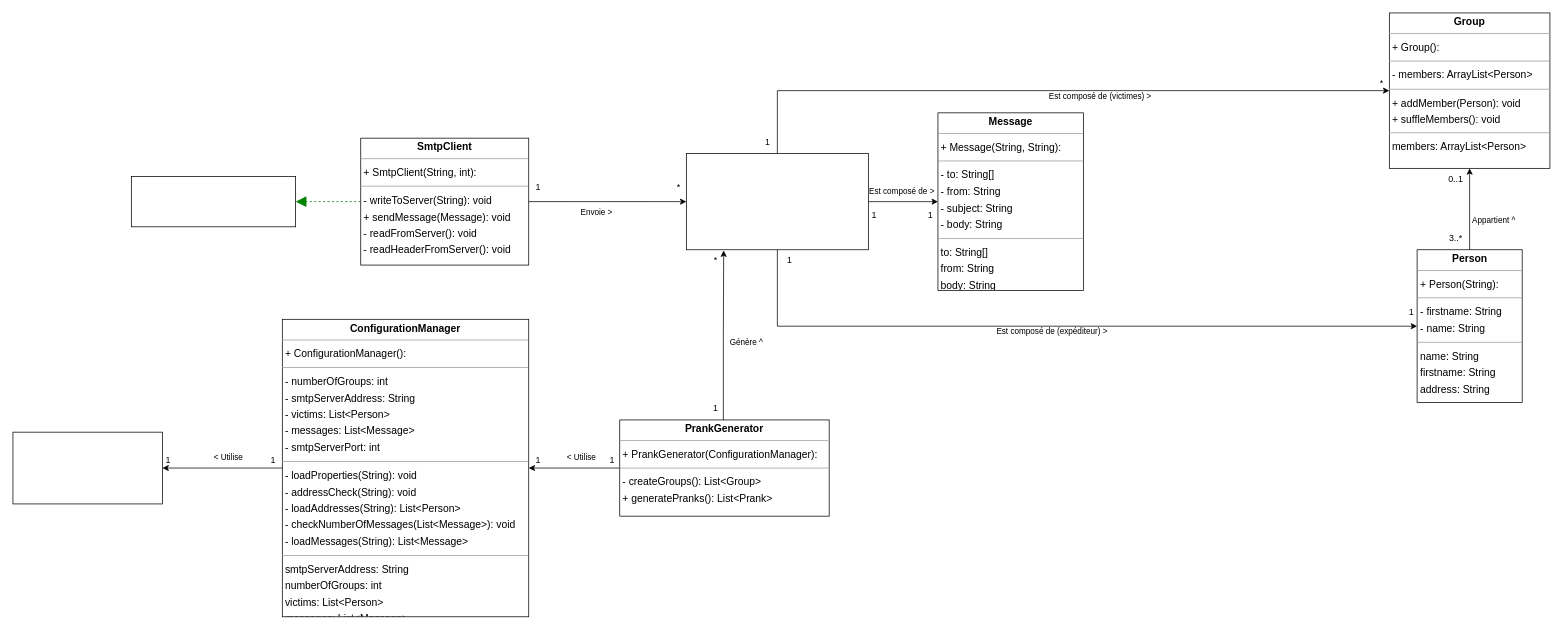
Image size: 1563x637. Some labels were removed from this diagram. The shapes that lost their labels are listed below. From the top down, each one's centre as x and y in pixels, then its label:
At pixel 213 201: "<<interface>> ISmtpClient + sendMessage(Message): void".
At pixel 777 201: "Prank + Prank(Group, Message): + generateMailMessage(): Message".
At pixel 87 467: "MailChecker + MailChecker(): + checkMail(String): boolean".
